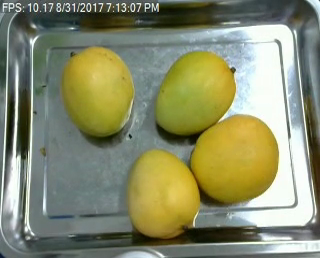Mango: (187, 114, 281, 203), (56, 45, 138, 139), (152, 49, 237, 137), (124, 146, 201, 238)
